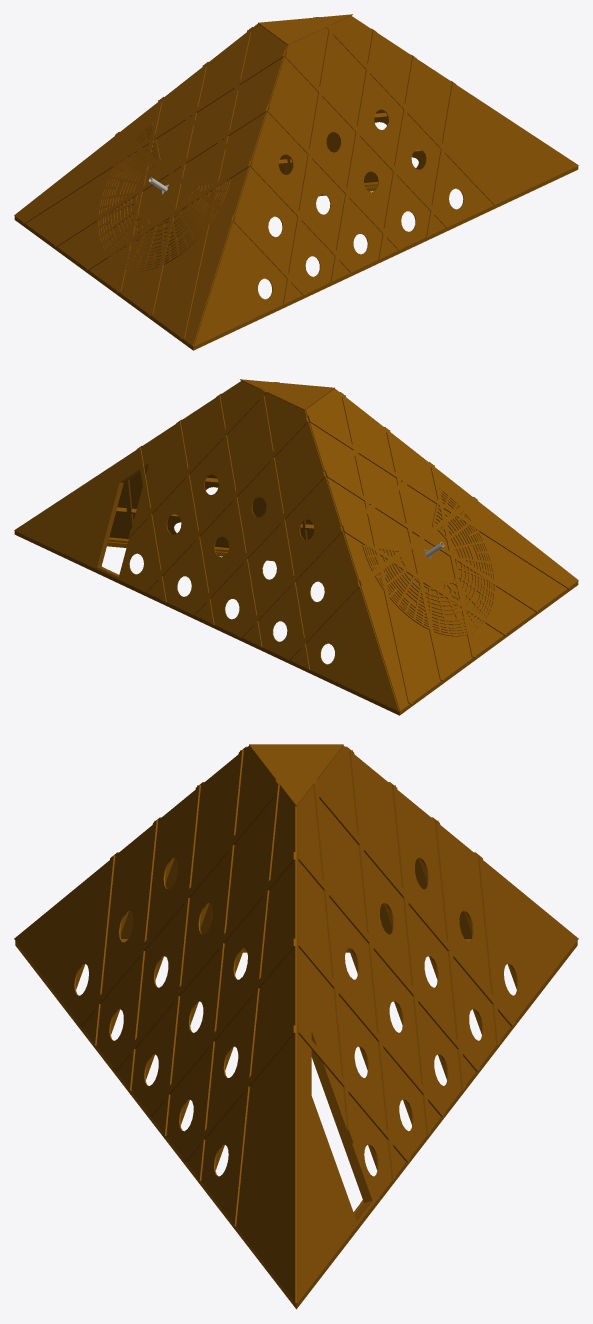
Rendered from about_time-v2.gltf.
3 renders of one model, top to bottom at view 1: azimuth 30°, elevation 25°; view 2: azimuth 150°, elevation 25°; view 3: azimuth 270°, elevation 25°, orthographic. The views are drawn at different scales.
Parts seen in each view (by area): view 1: color; view 2: color; view 3: color.
Boxes of the visible parts, x1,y1,x2,y2 form: color: (14, 14, 578, 350); color: (14, 379, 578, 715); color: (14, 744, 578, 1309).
Size of the model in its own units: 9.39 by 3.96 by 6.12.
